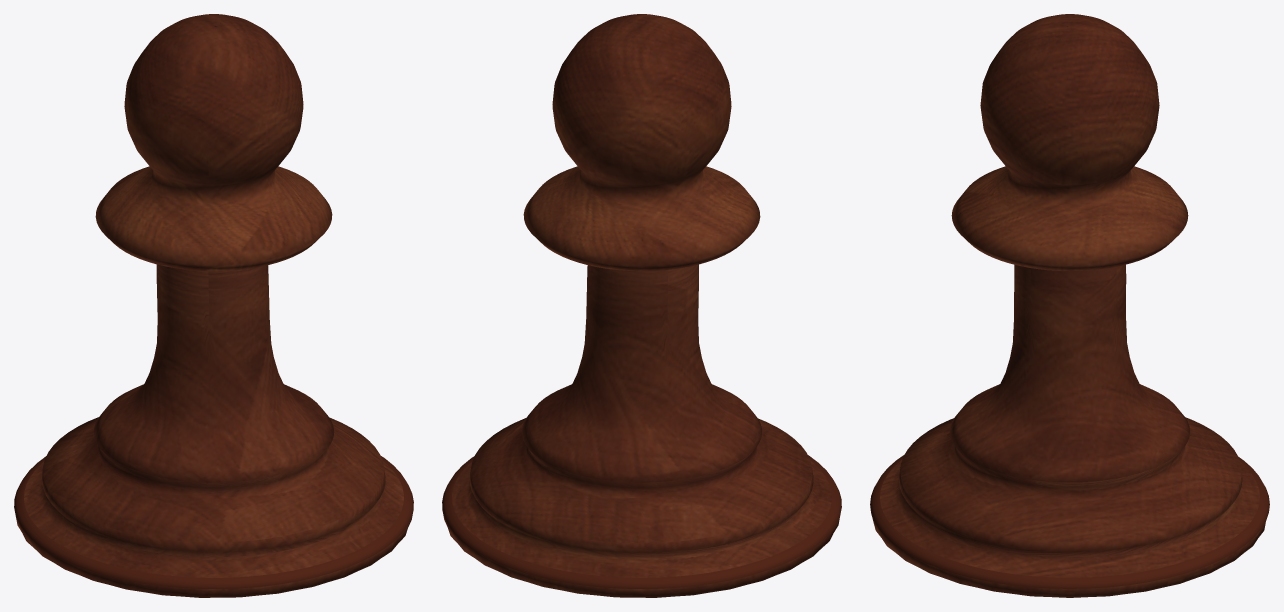
The model's file is pawn.glb.
3 renders of one model, left to right at view 1: azimuth 30°, elevation 25°; view 2: azimuth 150°, elevation 25°; view 3: azimuth 270°, elevation 25°, orthographic.
Visible parts, largest first — view 1: Cylinder; view 2: Cylinder; view 3: Cylinder.
Part boxes in pixels (bbox=[...]): Cylinder: bbox=[14, 14, 413, 597]; Cylinder: bbox=[442, 14, 841, 597]; Cylinder: bbox=[870, 14, 1269, 597].
Bounding box in the file's own units: 3.98 × 5.56 × 3.98.
Materials: 1 (1 with a texture image).
